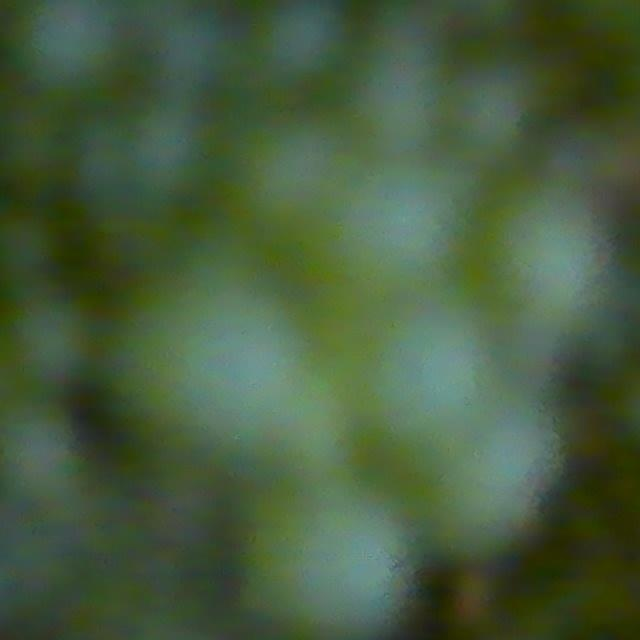SeaGrape: (126, 267, 297, 441), (229, 464, 405, 633), (428, 382, 565, 544), (345, 319, 477, 461), (483, 192, 613, 333), (222, 109, 350, 237), (328, 191, 455, 315), (10, 0, 130, 93), (449, 59, 543, 162), (126, 98, 216, 199), (254, 0, 354, 87), (9, 293, 98, 385), (0, 414, 81, 510), (151, 6, 238, 92)
